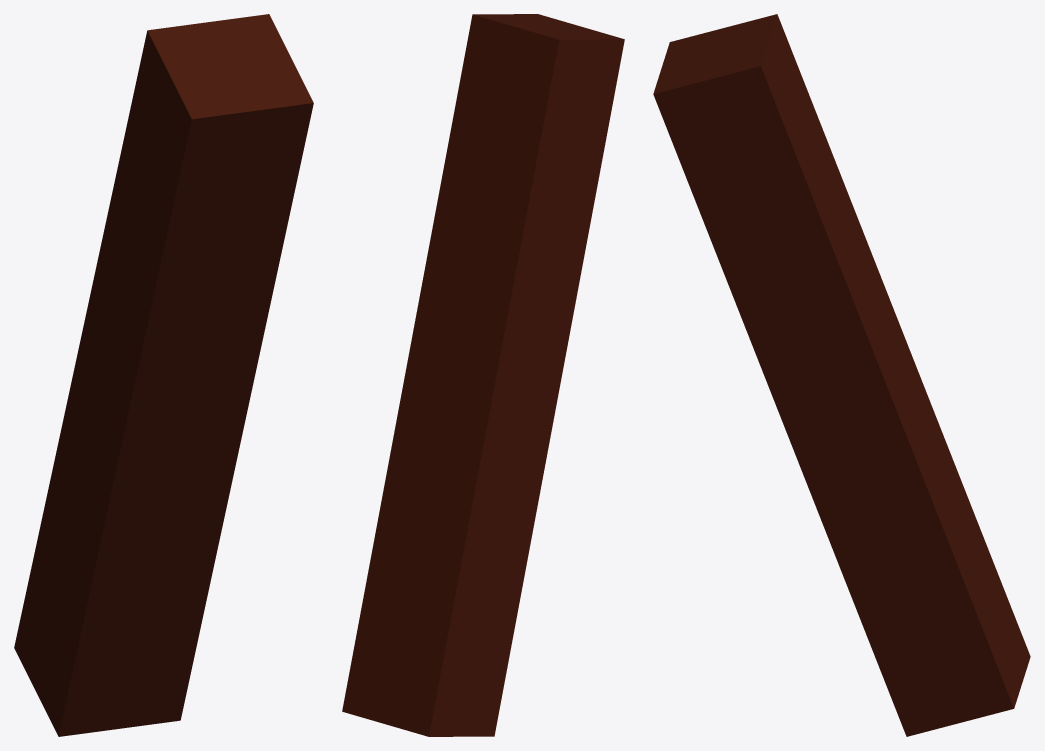
The picture shows the model from 3 angles, left to right: view 1: azimuth 30°, elevation 25°; view 2: azimuth 150°, elevation 25°; view 3: azimuth 270°, elevation 25°; orthographic projection. The views are drawn at different scales.
Parts seen in each view (by area): view 1: mesh_I; view 2: mesh_I; view 3: mesh_I.
Boxes of the visible parts, <box> form: mesh_I: <box>14,14,313,736</box>; mesh_I: <box>342,14,624,736</box>; mesh_I: <box>653,14,1030,736</box>.
Bounding box in the file's own units: 14.73 × 77.34 × 39.06.
